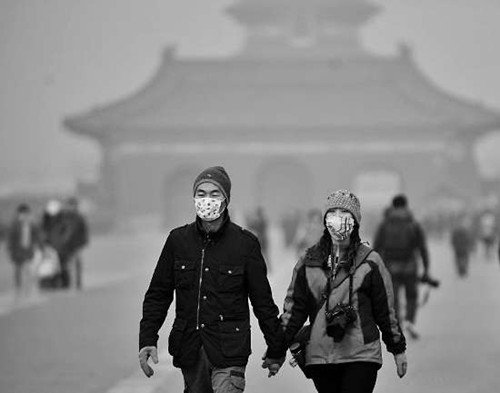face_mask: (193, 182, 224, 219), (326, 210, 355, 242)
